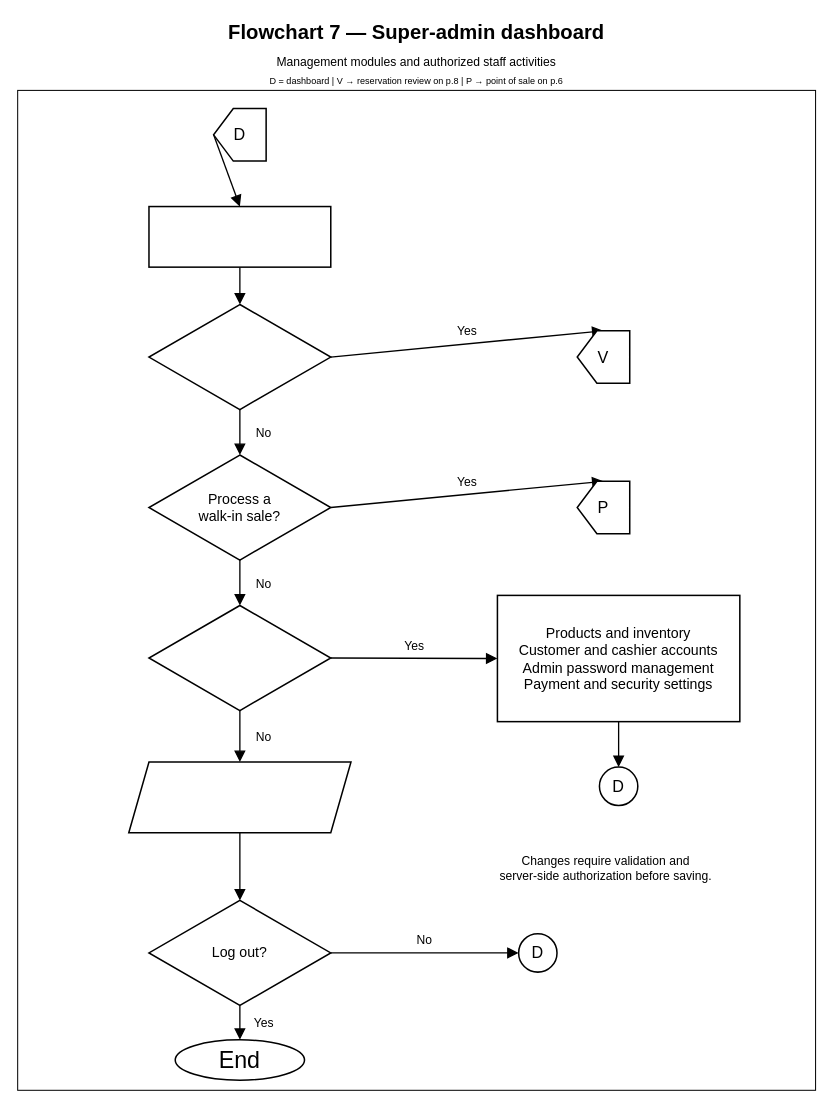
This 833x1108 diagram has some shape labels left out. Here are the shapes that lost their labels. From the top down, the centre of each, then its label:
the point at 239,236: Open management dashboard
the point at 239,356: Review reservations?
the point at 239,657: Manage system records?
the point at 239,797: View sales reports, customer history and activity logs
